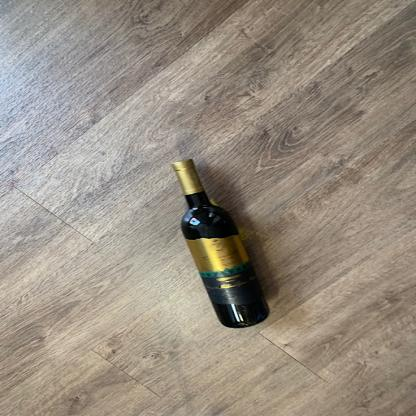trash: (171, 157, 276, 331)
